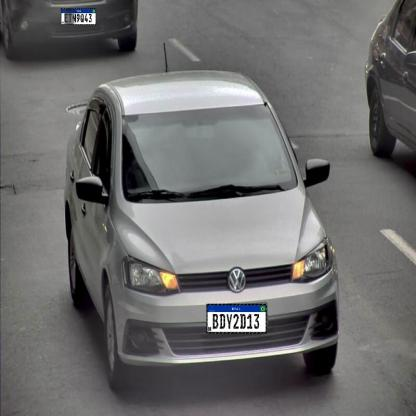PlacaM: (206, 304, 267, 334), (61, 8, 96, 25)
